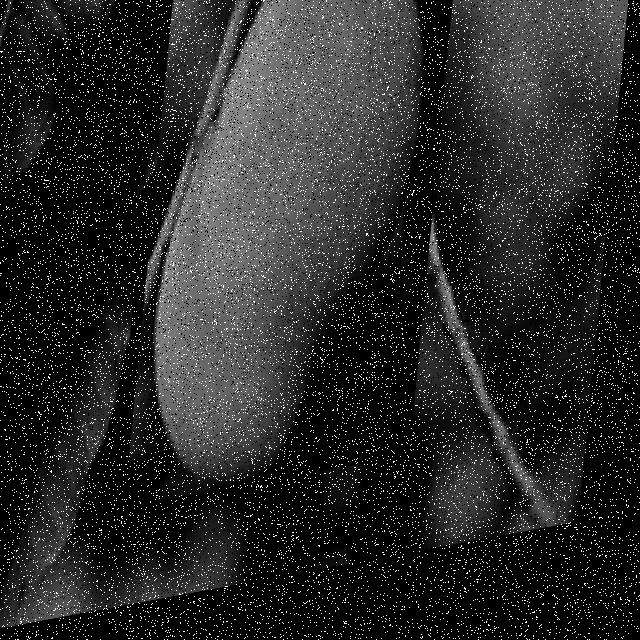raw-image: (135, 0, 461, 514)
